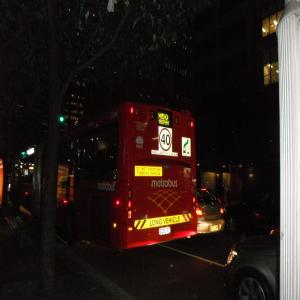Vehicle-registration-plate: (160, 228, 172, 237), (212, 226, 220, 233)
